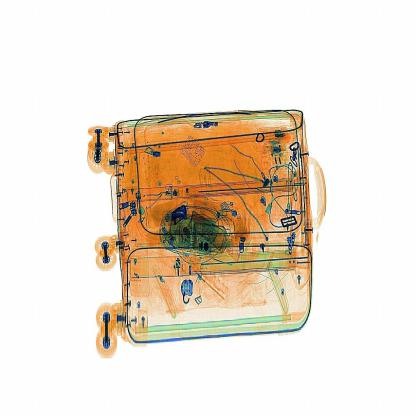knife: (170, 205, 191, 227)
